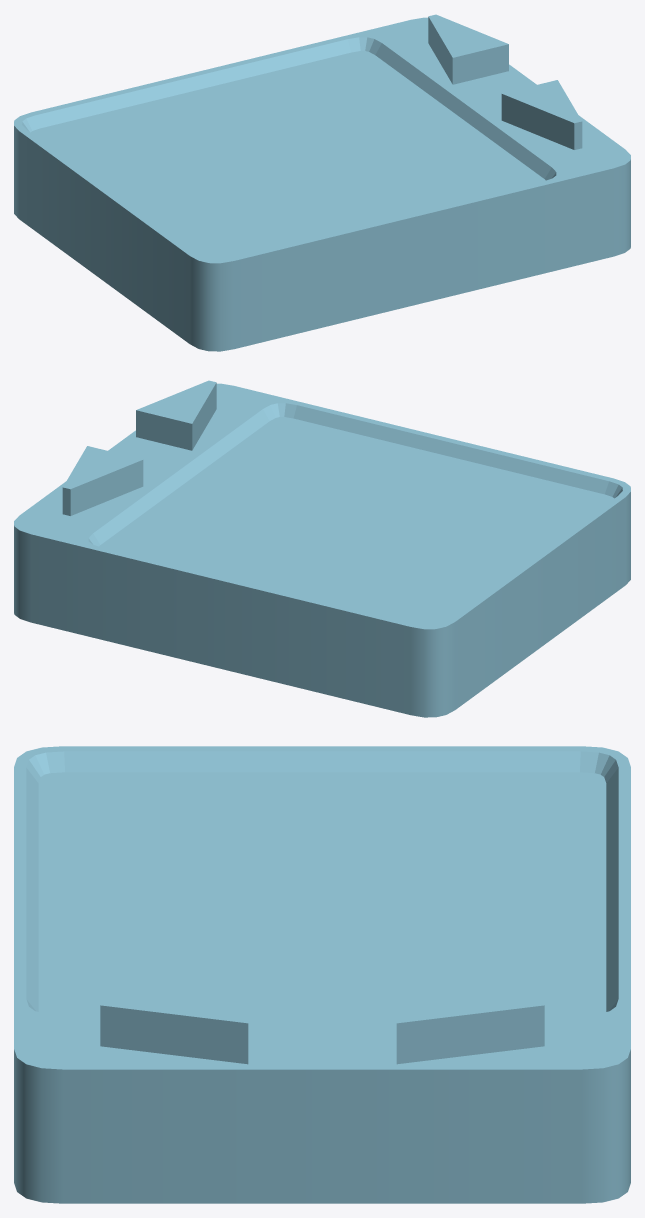
The model's file is tablet.FBX.
3 views of the same model, one above another, from view 1: azimuth 30°, elevation 25°; view 2: azimuth 150°, elevation 25°; view 3: azimuth 270°, elevation 25° (orthographic). The views are drawn at different scales.
Parts seen in each view (by area): view 1: tablet, tablet_arrowButton001, tablet_arrowButton; view 2: tablet, tablet_arrowButton, tablet_arrowButton001; view 3: tablet, tablet_arrowButton, tablet_arrowButton001.
Part boxes in pixels (x1,y1,x2,y2): tablet: (14, 17, 630, 351); tablet_arrowButton001: (501, 80, 582, 149); tablet_arrowButton: (428, 14, 508, 84); tablet: (14, 383, 630, 717); tablet_arrowButton: (62, 446, 143, 515); tablet_arrowButton001: (136, 380, 216, 450); tablet: (14, 746, 630, 1203); tablet_arrowButton: (396, 981, 544, 1064); tablet_arrowButton001: (100, 981, 248, 1064).
Size of the model in its own units: 0.31 by 0.0783 by 0.25.
